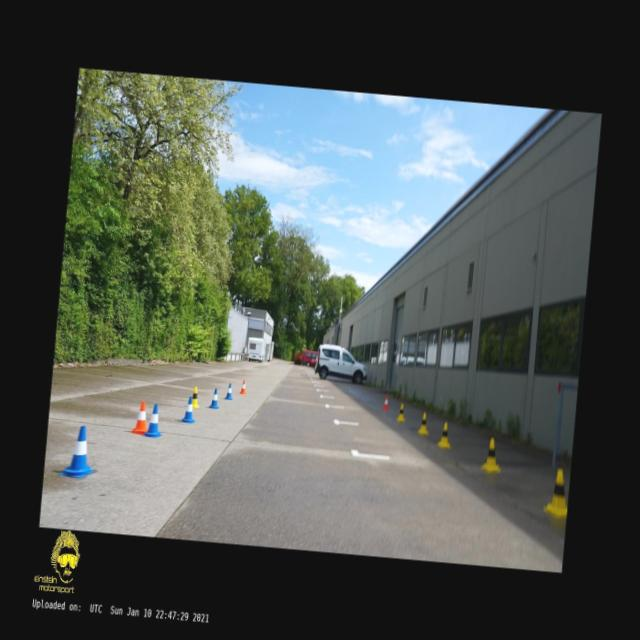blue_cone: (59, 424, 97, 478), (144, 403, 164, 438), (180, 396, 196, 424), (208, 388, 220, 408), (224, 382, 233, 400)
orange_cone: (130, 400, 150, 434), (238, 380, 248, 394), (382, 395, 389, 411)
yellow_cone: (543, 466, 570, 520), (480, 436, 503, 474), (437, 421, 452, 448), (416, 412, 431, 436), (396, 402, 406, 423), (192, 386, 200, 408)
